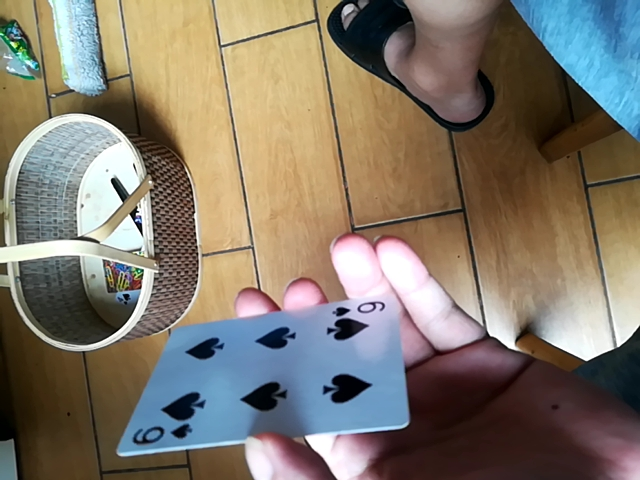ht 6: (118, 297, 410, 457)
